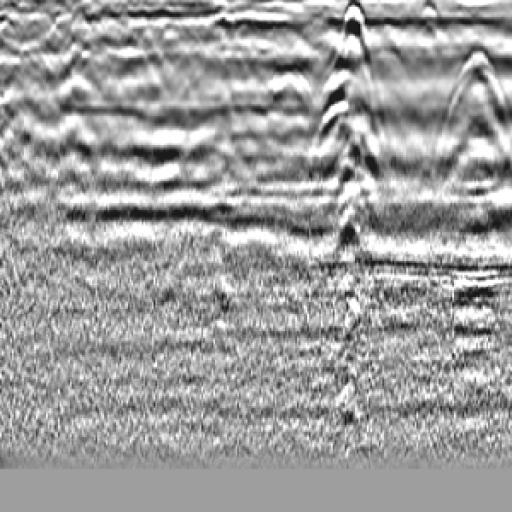metalic: (310, 1, 402, 396)
nonmetalic: (421, 38, 512, 223), (241, 54, 321, 158)
